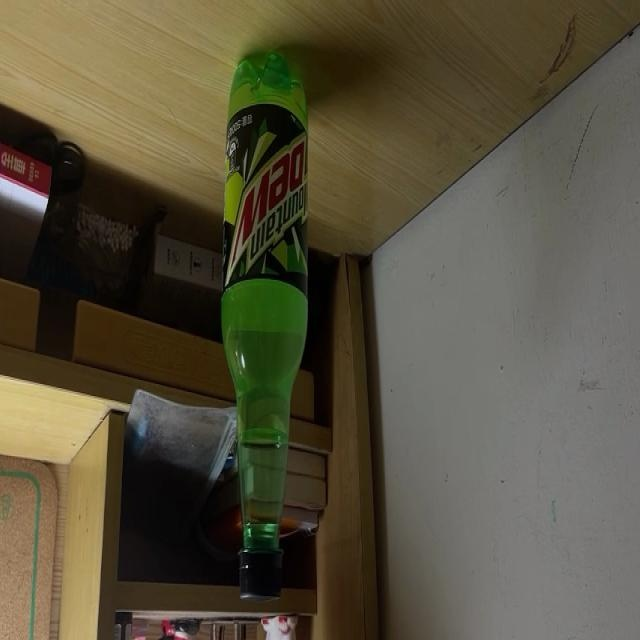Mountain-Dew: (222, 53, 309, 602)
